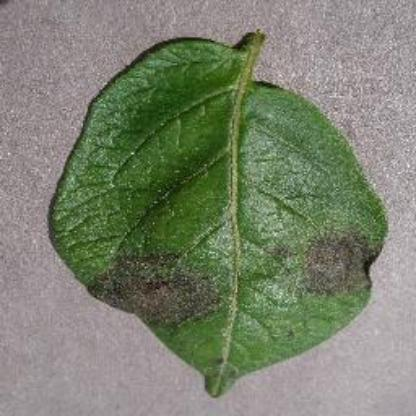Late-Blight: (47, 27, 390, 394)
